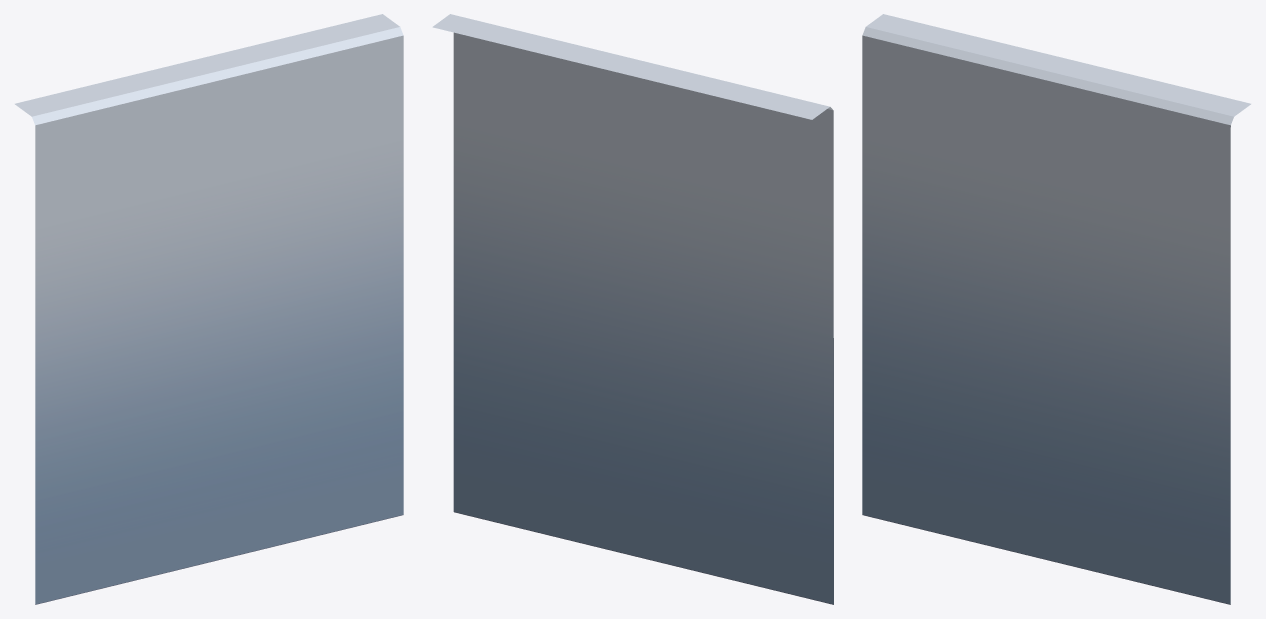
Rendered from Wall Btmst 01.fbx.
The picture shows the model from 3 angles, left to right: view 1: azimuth 30°, elevation 25°; view 2: azimuth 150°, elevation 25°; view 3: azimuth 330°, elevation 25°; orthographic projection. The views are drawn at different scales.
Parts seen in each view (by area): view 1: Wall Btmst 01.001; view 2: Wall Btmst 01.001; view 3: Wall Btmst 01.001.
Part boxes in pixels (left/top/right/bottom): Wall Btmst 01.001: left=15, top=14, right=403, bottom=604; Wall Btmst 01.001: left=432, top=14, right=833, bottom=604; Wall Btmst 01.001: left=862, top=14, right=1250, bottom=604.
Bounding box in the file's own units: 400 × 504 × 39.63.
